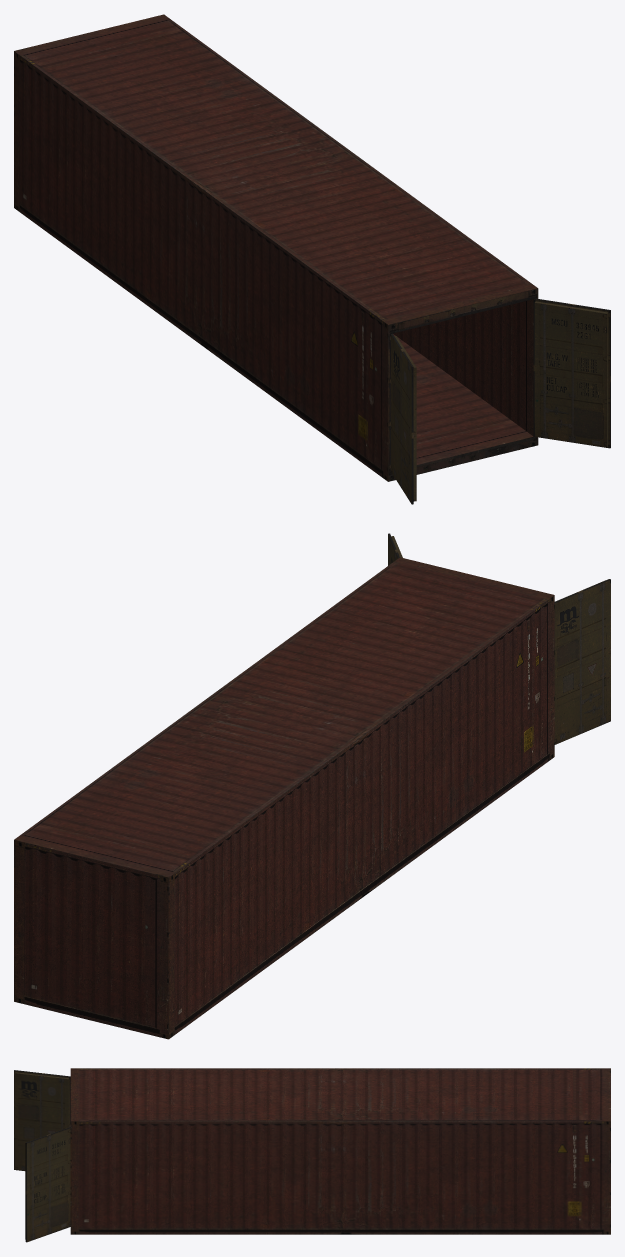
Rendered from shipping_container_mx_1_hollow_1.fbx.
The picture shows the model from 3 angles, top to bottom: view 1: azimuth 30°, elevation 25°; view 2: azimuth 150°, elevation 25°; view 3: azimuth 270°, elevation 25°; orthographic projection. The views are drawn at different scales.
Parts seen in each view (by area): view 1: shipping_container_mx_1_hollow_1, shipping_container_mx_1_door_1_2, shipping_container_mx_1_door_1_1; view 2: shipping_container_mx_1_hollow_1, shipping_container_mx_1_door_1_1; view 3: shipping_container_mx_1_hollow_1, shipping_container_mx_1_door_1_2, shipping_container_mx_1_door_1_1.
Part boxes in pixels (x1,y1,x2,y2): shipping_container_mx_1_hollow_1: (14,14,538,481); shipping_container_mx_1_door_1_2: (533,298,610,448); shipping_container_mx_1_door_1_1: (391,333,416,504); shipping_container_mx_1_hollow_1: (14,557,554,1039); shipping_container_mx_1_door_1_1: (554,579,610,744); shipping_container_mx_1_hollow_1: (70,1068,610,1234); shipping_container_mx_1_door_1_2: (25,1127,70,1242); shipping_container_mx_1_door_1_1: (14,1070,70,1170).
Bounding box in the file's own units: 3.46 × 11.94 × 2.5.
